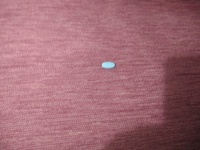Majezik: (100, 60, 116, 70)
